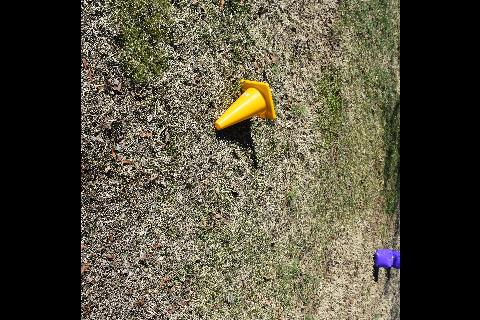cone: (213, 79, 275, 129)
cube: (373, 248, 393, 270), (392, 251, 400, 269)
